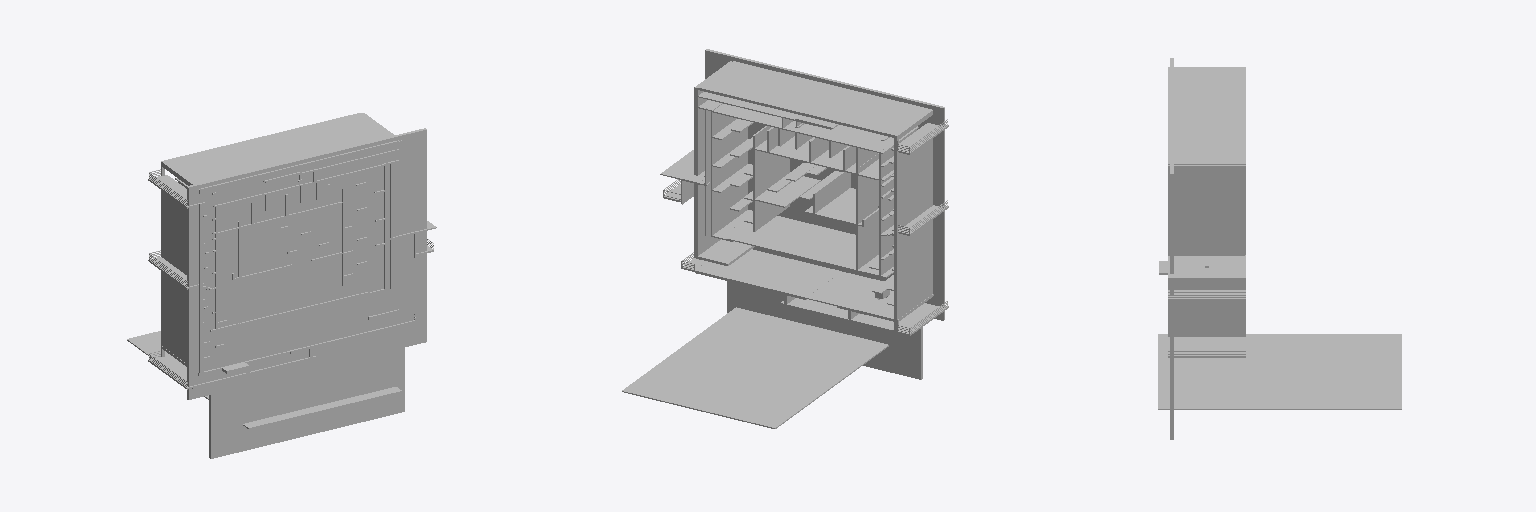
File: Unity Export temple.obj
3 renders of one model, left to right at view 1: azimuth 30°, elevation 25°; view 2: azimuth 150°, elevation 25°; view 3: azimuth 270°, elevation 25°, orthographic.
Parts seen in each view (by area): view 1: background, background (1), Cube (5), Cube (42), Cube (29), Cube (86), Cube (51); view 2: Cube (86), Cube (5), background, background (1), Cube (16), Cube (1), Cube (42), Cube (7), Cube (29), Cube (9), Cube (14), Cube (51) (+15 smaller); view 3: Cube (86), Cube (5), Cube (4), Cube (84), background, Dissapearing Floor (2), Cube (1), Cube (97), Cube (13), Cube (47).
Boxes of the visible parts, x1=… form: background: x1=187, y1=128, x2=426, y2=399; background (1): x1=209, y1=343, x2=404, y2=458; Cube (5): x1=164, y1=113, x2=398, y2=190; Cube (42): x1=161, y1=271, x2=202, y2=374; Cube (29): x1=161, y1=176, x2=202, y2=276; Cube (86): x1=127, y1=331, x2=401, y2=428; Cube (51): x1=156, y1=354, x2=316, y2=388; Cube (86): x1=622, y1=307, x2=888, y2=428; Cube (5): x1=698, y1=61, x2=929, y2=137; background: x1=705, y1=49, x2=944, y2=320; background (1): x1=727, y1=281, x2=922, y2=379; Cube (16): x1=727, y1=216, x2=880, y2=276; Cube (1): x1=695, y1=249, x2=881, y2=299; Cube (42): x1=894, y1=220, x2=932, y2=321; Cube (7): x1=711, y1=111, x2=747, y2=235; Cube (29): x1=894, y1=123, x2=932, y2=222; Cube (9): x1=713, y1=104, x2=893, y2=152; Cube (14): x1=753, y1=126, x2=789, y2=231; Cube (51): x1=780, y1=298, x2=938, y2=334; Cube (86): x1=1158, y1=334, x2=1401, y2=409; Cube (5): x1=1168, y1=68, x2=1245, y2=164; Cube (4): x1=1168, y1=165, x2=1245, y2=253; Cube (84): x1=1168, y1=300, x2=1245, y2=336; background: x1=1170, y1=58, x2=1173, y2=386; Dissapearing Floor (2): x1=1168, y1=255, x2=1245, y2=278; Cube (1): x1=1168, y1=337, x2=1245, y2=348; Cube (97): x1=1168, y1=279, x2=1245, y2=289; Cube (13): x1=1168, y1=259, x2=1245, y2=267; Cube (47): x1=1168, y1=290, x2=1245, y2=299.
Size of the model in its own units: 102 by 109 by 86.73.